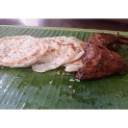parota: (35, 36, 83, 74), (1, 34, 46, 68)
